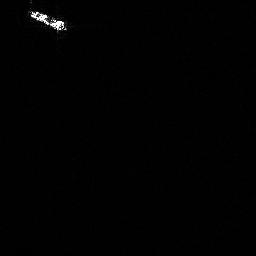ship: (27, 6, 70, 35)
